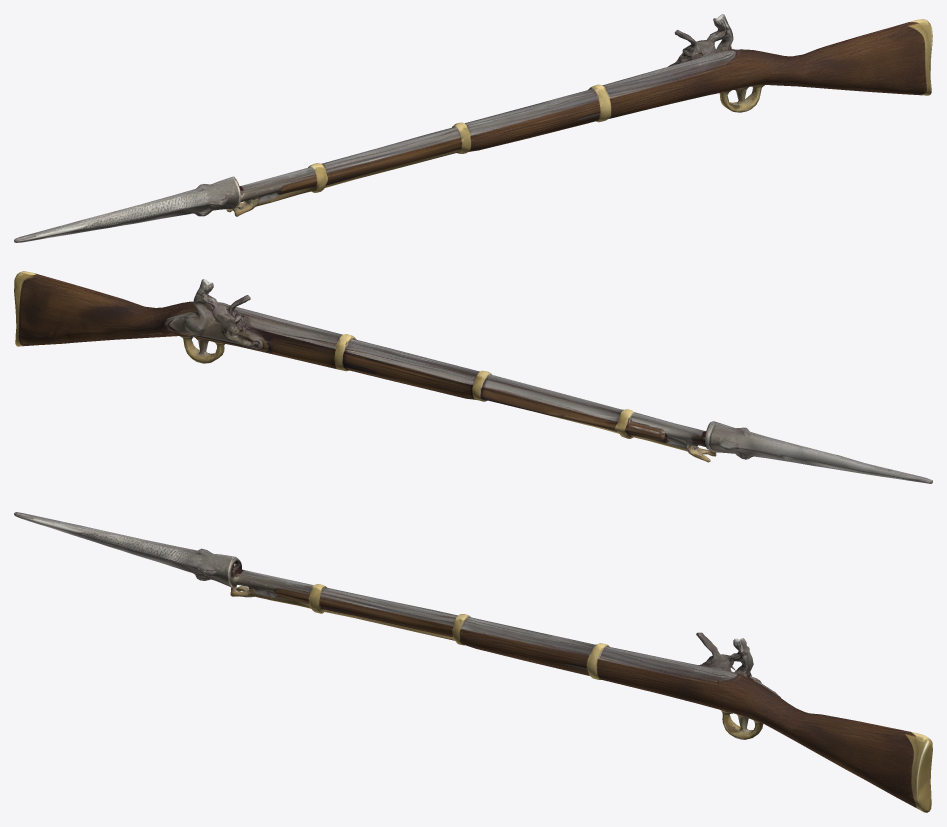
The model's file is bc6b8c09-5d21-440c-b145-eee190c2e0cf.glb.
3 renders of one model, top to bottom at view 1: azimuth 30°, elevation 25°; view 2: azimuth 150°, elevation 25°; view 3: azimuth 330°, elevation 25°, orthographic.
Visible parts, largest first — view 1: Mesh_0.001; view 2: Mesh_0.001; view 3: Mesh_0.001.
Part boxes in pixels (<box>): Mesh_0.001: <box>14,14,932,242</box>; Mesh_0.001: <box>14,271,932,483</box>; Mesh_0.001: <box>14,512,932,812</box>.
Size of the model in its own units: 10.26 by 1.3 by 0.5344.
1 material, 1 textured.
